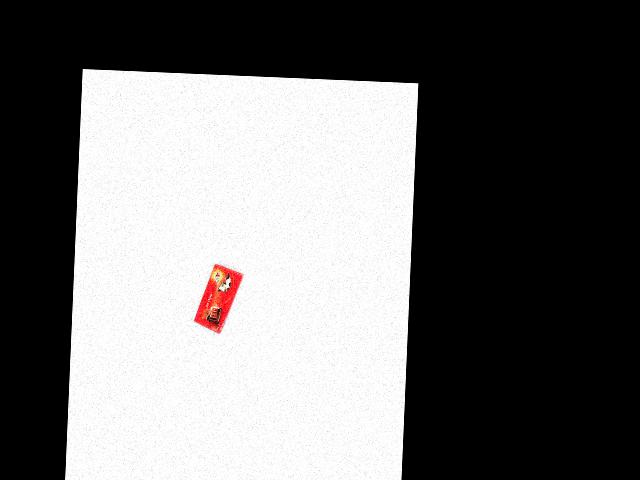chocolate: (192, 264, 243, 335)
